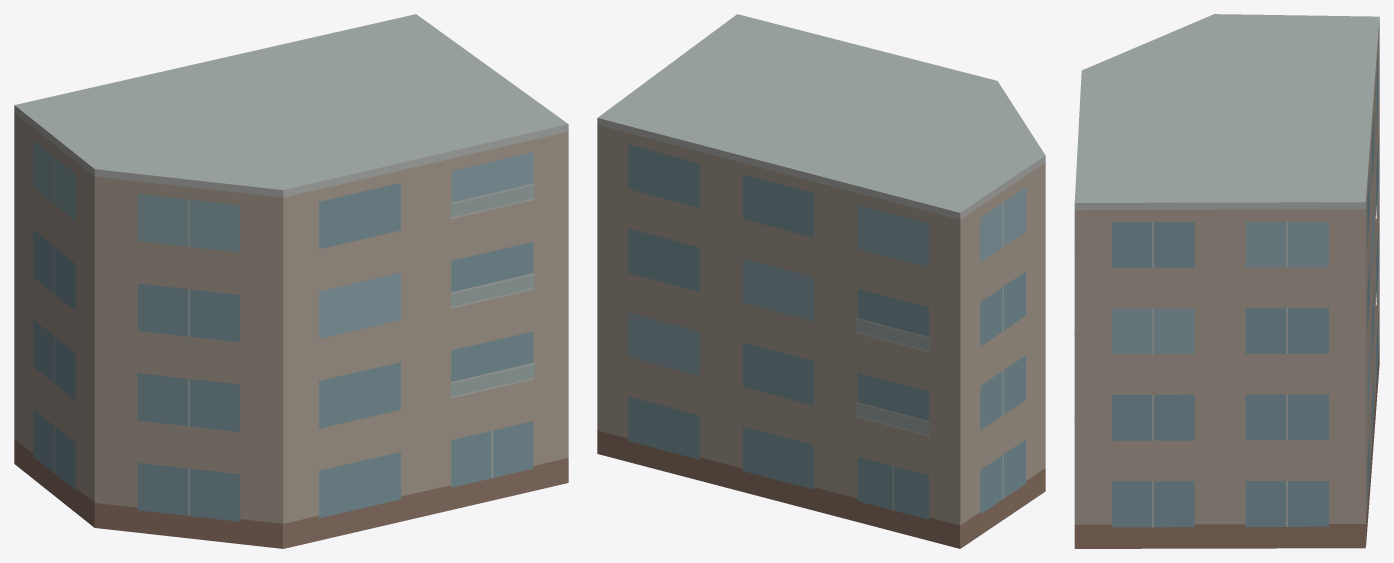
File: survey-upis-32775944.glb
3 views of the same model, side by side, from view 1: azimuth 30°, elevation 25°; view 2: azimuth 150°, elevation 25°; view 3: azimuth 270°, elevation 25° (orthographic). The views are drawn at different scales.
Parts seen in each view (by area): view 1: survey-upis-32775944.tmp; view 2: survey-upis-32775944.tmp; view 3: survey-upis-32775944.tmp.
Part boxes in pixels (<box>): survey-upis-32775944.tmp: <box>14,14,568,548</box>; survey-upis-32775944.tmp: <box>597,14,1045,548</box>; survey-upis-32775944.tmp: <box>1074,14,1379,548</box>.
Size of the model in its own units: 13.72 by 11.7 by 9.37.
